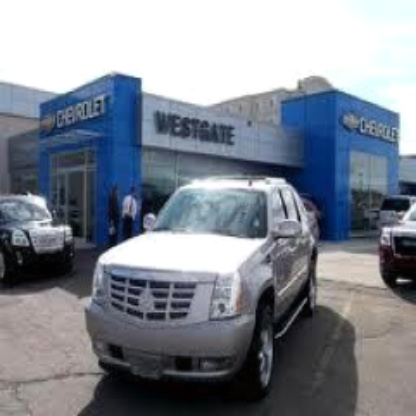Vehicle: (84, 173, 318, 405)
